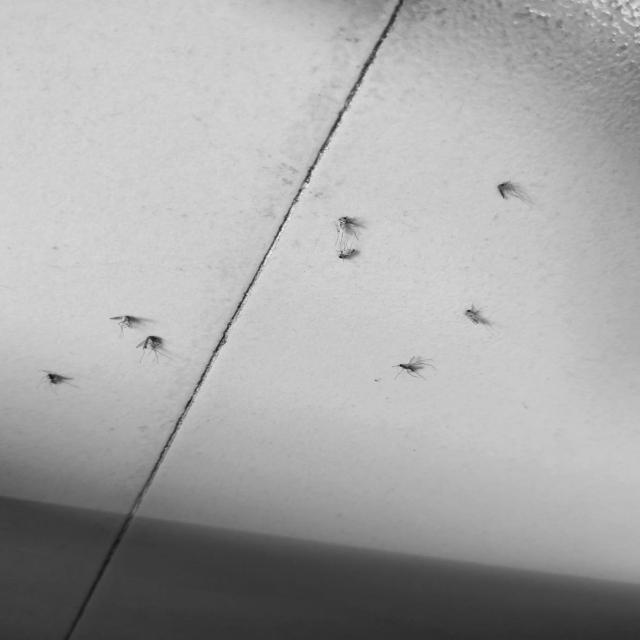Mosquito: (470, 169, 568, 215), (446, 288, 514, 345), (98, 292, 166, 345), (314, 209, 396, 251), (376, 339, 454, 383), (130, 326, 188, 368), (32, 358, 98, 392)
